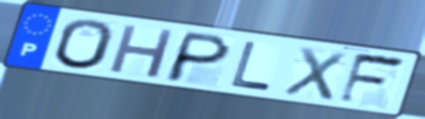F: (335, 51, 409, 107)
H: (106, 22, 178, 80)
L: (229, 39, 275, 93)
O: (52, 17, 116, 71)
P: (161, 29, 235, 85)
X: (280, 44, 349, 103)
